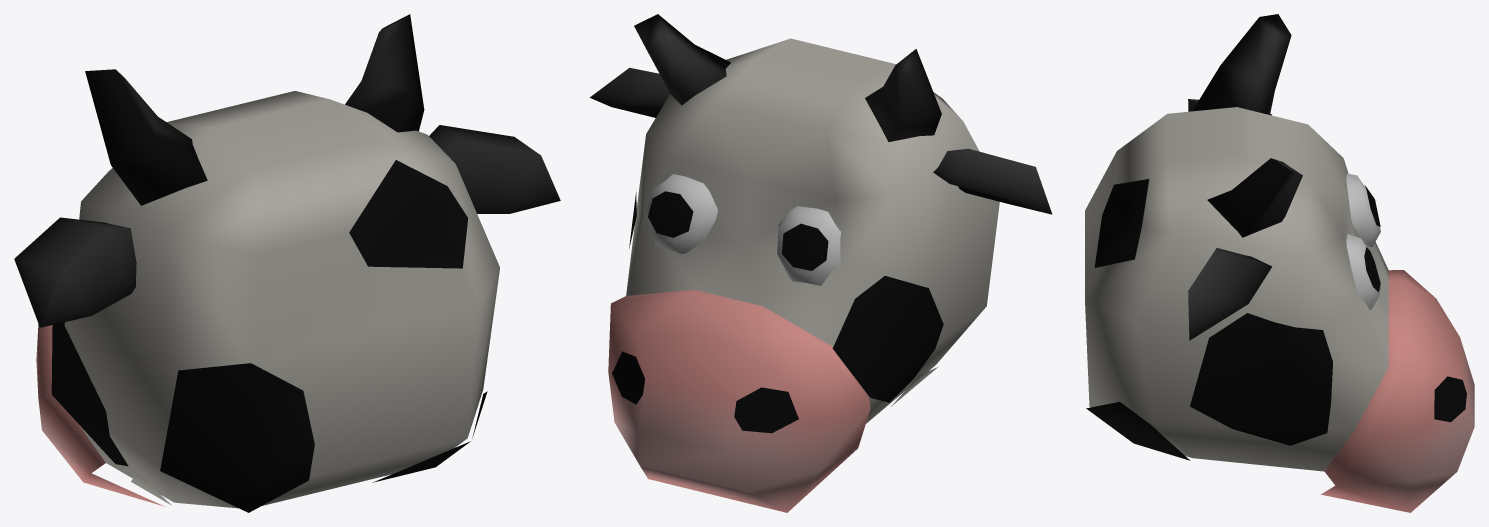
The model's file is hat_kartcow.glb.
3 views of the same model, side by side, from view 1: azimuth 30°, elevation 25°; view 2: azimuth 150°, elevation 25°; view 3: azimuth 270°, elevation 25° (orthographic). The views are drawn at different scales.
Parts seen in each view (by area): view 1: hat_kartcow; view 2: hat_kartcow; view 3: hat_kartcow.
Boxes of the visible parts, x1,y1,x2,y2 form: hat_kartcow: [14, 14, 560, 512]; hat_kartcow: [589, 14, 1052, 512]; hat_kartcow: [1085, 14, 1474, 512].
Size of the model in its own units: 0.4241 by 0.3855 by 0.3381.
